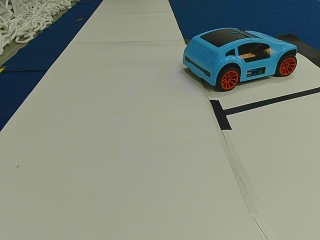car: (182, 28, 297, 90)
